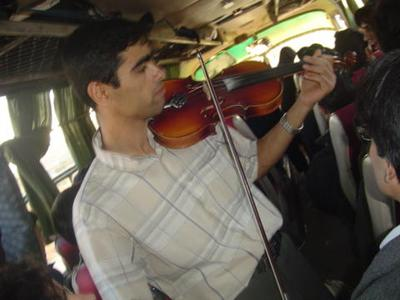person: (63, 12, 338, 300)
